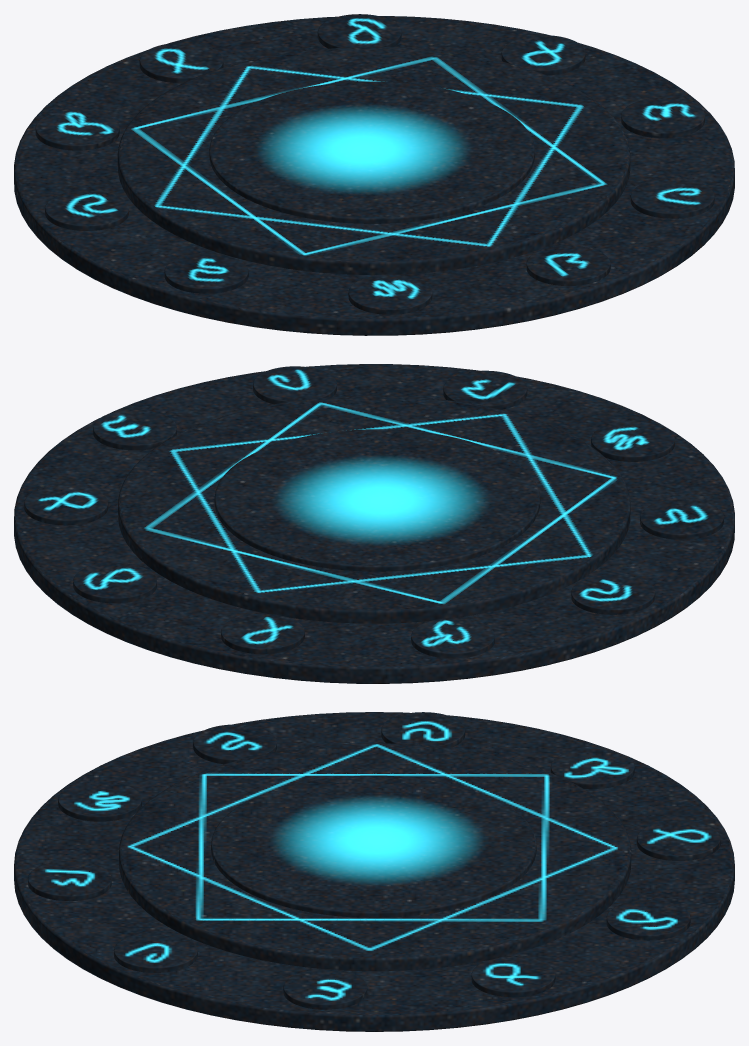
Rendered from platform.glb.
3 renders of one model, top to bottom at view 1: azimuth 30°, elevation 25°; view 2: azimuth 150°, elevation 25°; view 3: azimuth 270°, elevation 25°, orthographic.
Visible parts, largest first — view 1: pCylinder65; view 2: pCylinder65; view 3: pCylinder65.
Part boxes in pixels (x1,y1,x2,y2): pCylinder65: (14, 14, 734, 335); pCylinder65: (14, 364, 734, 683); pCylinder65: (14, 712, 734, 1031).
Bounding box in the file's own units: 1.97 × 0.1149 × 1.97.
1 material, 1 textured.
